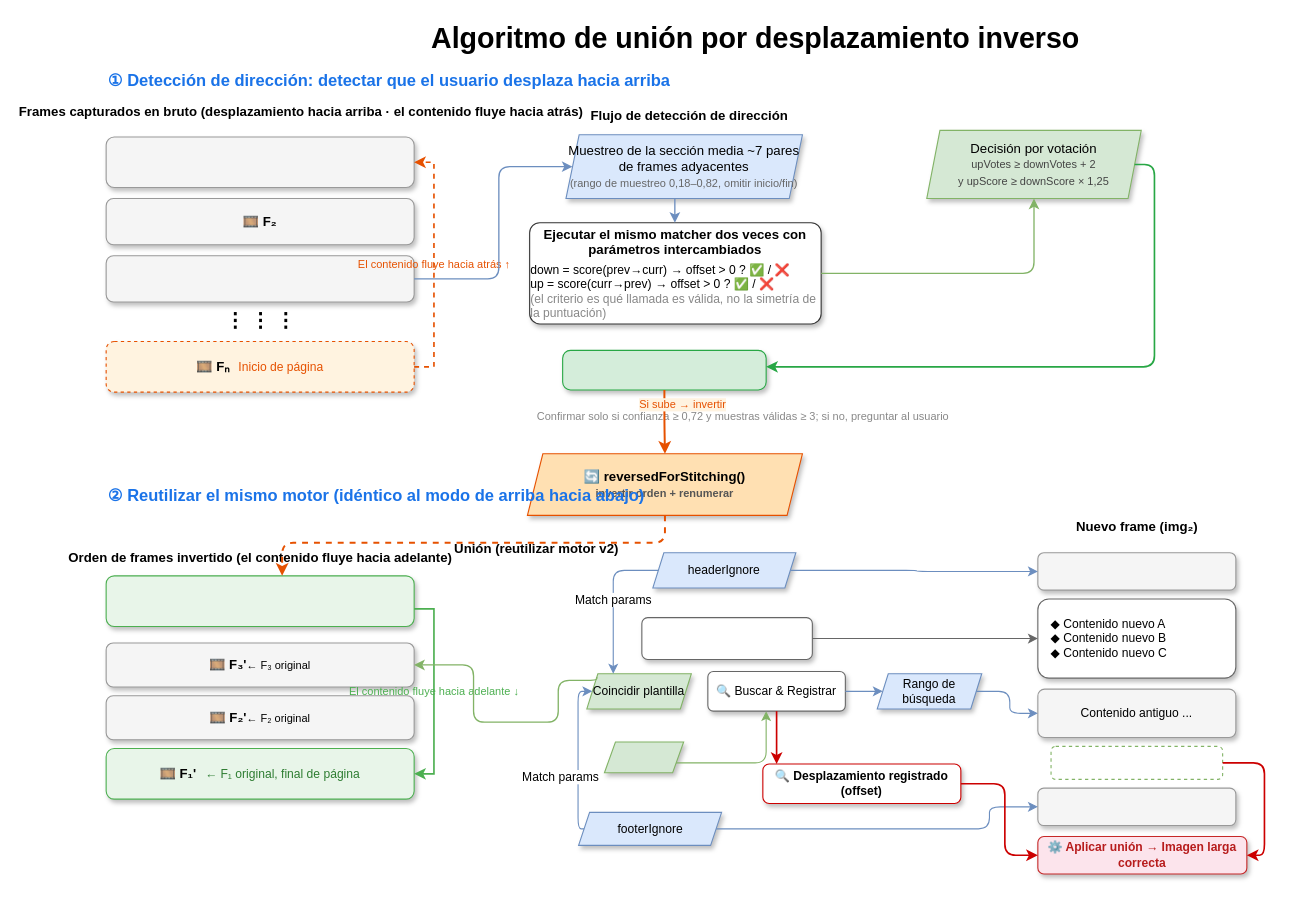
Some shapes in this 1294 by 901 pixel diagram are drawn without their labels. Each missing label, with the centre of its shape:
"Buscar" belongs at (644,758).
"Muestreo equiespaciado de frames + mejora de nitidez" belongs at (727,639).
"¡Encontrado aquí! ✅" belongs at (1136,762).
"⊞ Tab Bar" belongs at (1137,808).
"✅ Veredicto: desplazamiento hacia arriba" belongs at (665,371).
"🎞️ F₁ Final de página" belongs at (261,163).
"🎞️ F₃" belongs at (261,280).
"🎞️ Fₙ' ← Fₙ original, inicio de página" belongs at (261,602).
"🎬 Barra de estado / Navegación" belongs at (1137,572).
